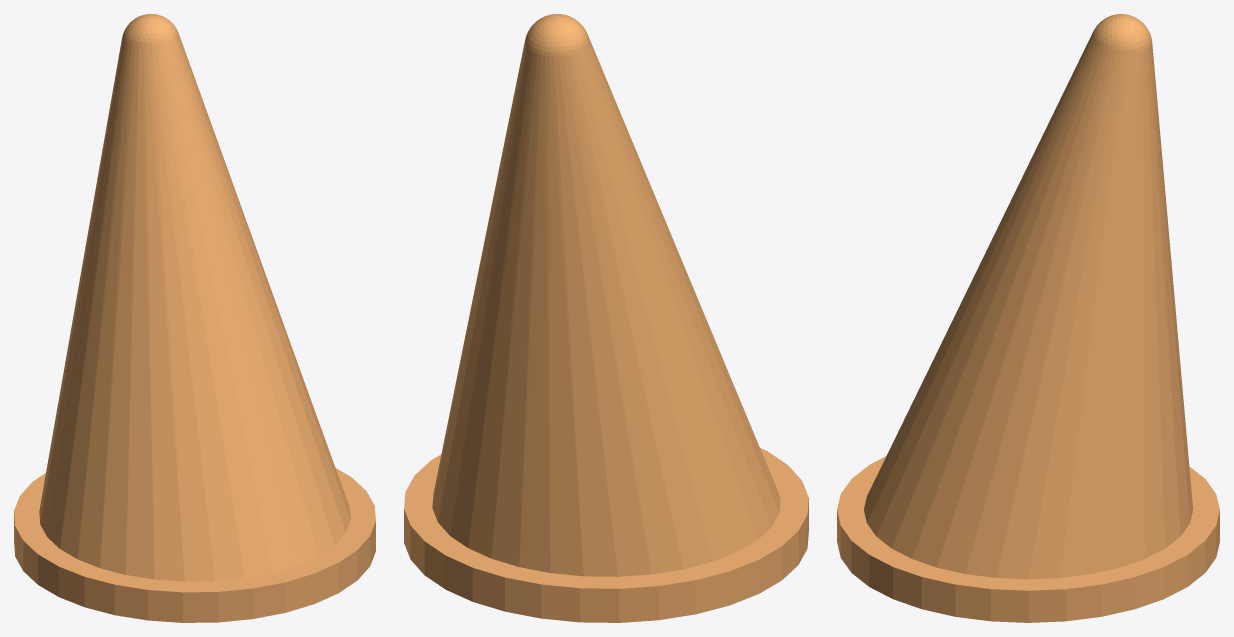
Rendered from wobble-hat.glb.
3 views of the same model, side by side, from view 1: azimuth 30°, elevation 25°; view 2: azimuth 150°, elevation 25°; view 3: azimuth 270°, elevation 25° (orthographic). The views are drawn at different scales.
Visible parts, largest first — view 1: wobble-hat; view 2: wobble-hat; view 3: wobble-hat.
Part boxes in pixels (<box>): wobble-hat: <box>14,14,375,622</box>; wobble-hat: <box>404,14,808,622</box>; wobble-hat: <box>837,14,1219,622</box>.
Bounding box in the file's own units: 0.0172 × 0.026 × 0.0172.
